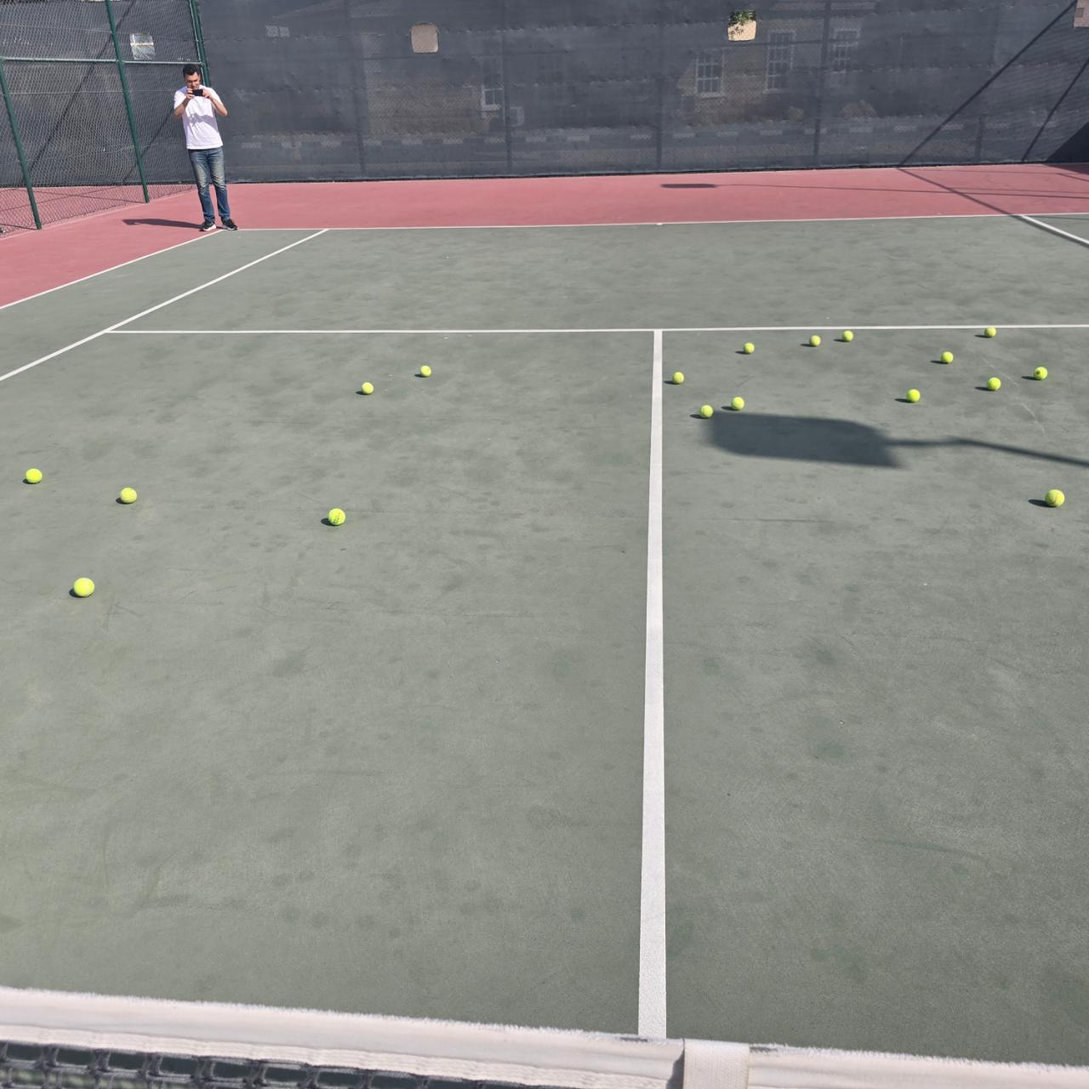tennis-ball: (71, 575, 95, 597), (116, 485, 138, 504), (326, 505, 345, 525), (1045, 487, 1064, 506), (23, 466, 43, 483), (905, 386, 921, 402), (358, 379, 373, 394), (698, 402, 713, 417), (730, 394, 744, 410), (987, 374, 1001, 390), (1033, 365, 1047, 379), (671, 369, 684, 384), (418, 363, 431, 377), (940, 351, 953, 364), (743, 341, 755, 355), (809, 335, 821, 348), (842, 330, 854, 342), (984, 326, 996, 338)
